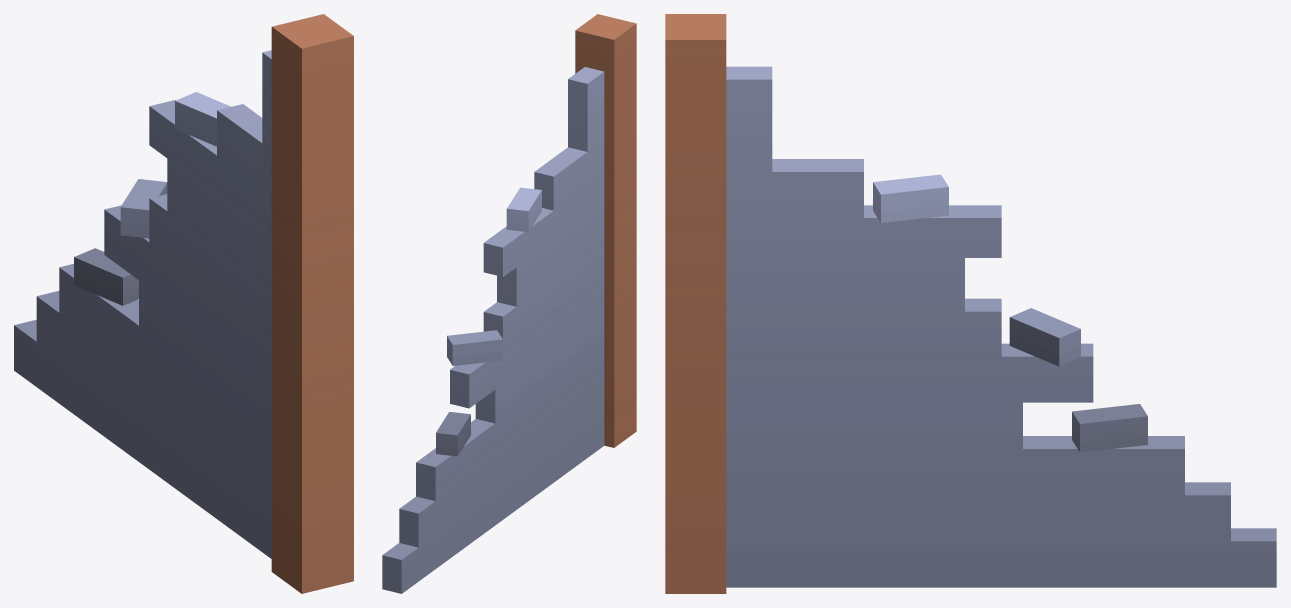
Rendered from wall-broken.fbx.
The picture shows the model from 3 angles, left to right: view 1: azimuth 30°, elevation 25°; view 2: azimuth 150°, elevation 25°; view 3: azimuth 270°, elevation 25°; orthographic projection. The views are drawn at different scales.
Visible parts, largest first — view 1: wall-broken; view 2: wall-broken; view 3: wall-broken.
Part boxes in pixels (bbox=[...]): wall-broken: bbox=[14, 14, 353, 593]; wall-broken: bbox=[382, 14, 636, 593]; wall-broken: bbox=[665, 14, 1276, 593].
Size of the model in its own units: 11.68 by 100 by 100.
Materials: 1 (1 with a texture image).
